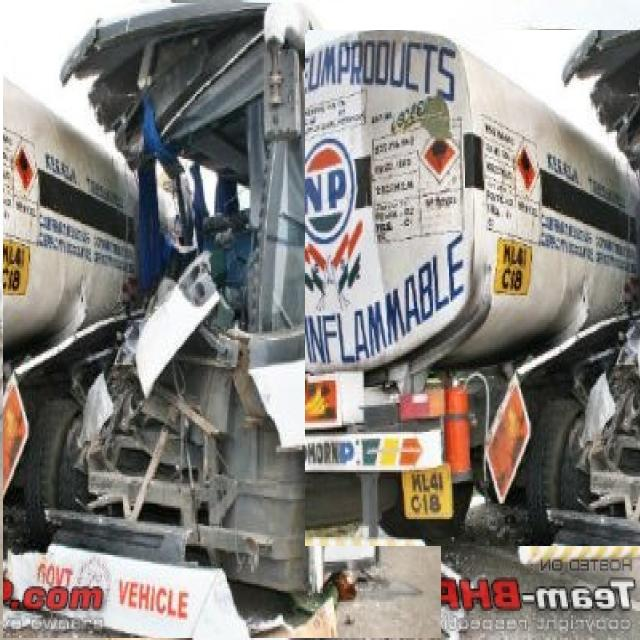accident: (3, 4, 440, 638)
truck: (305, 30, 640, 546)
